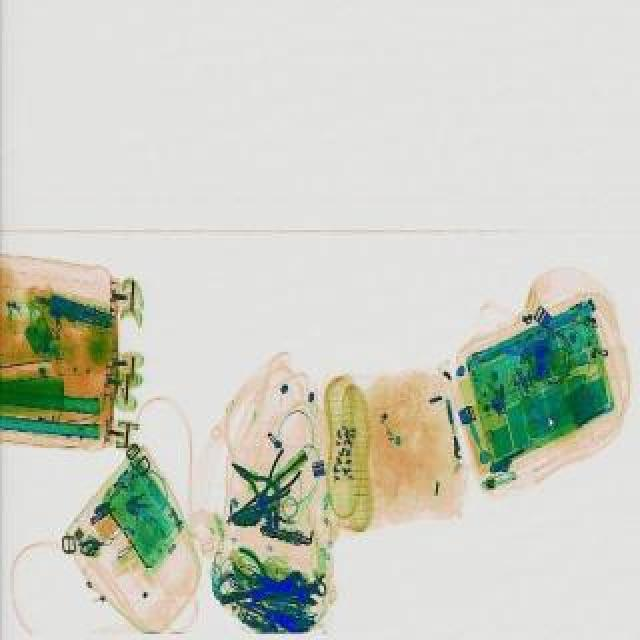wrench: (244, 448, 308, 514), (222, 452, 284, 508), (226, 548, 288, 600)
